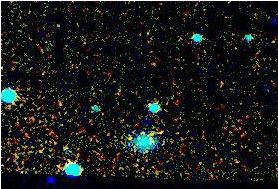star: (113, 124, 143, 154)
